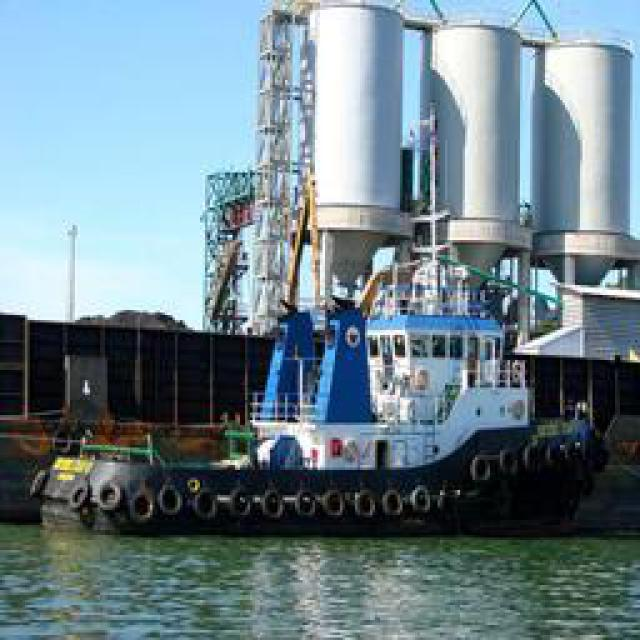Ship: (24, 277, 607, 561)
